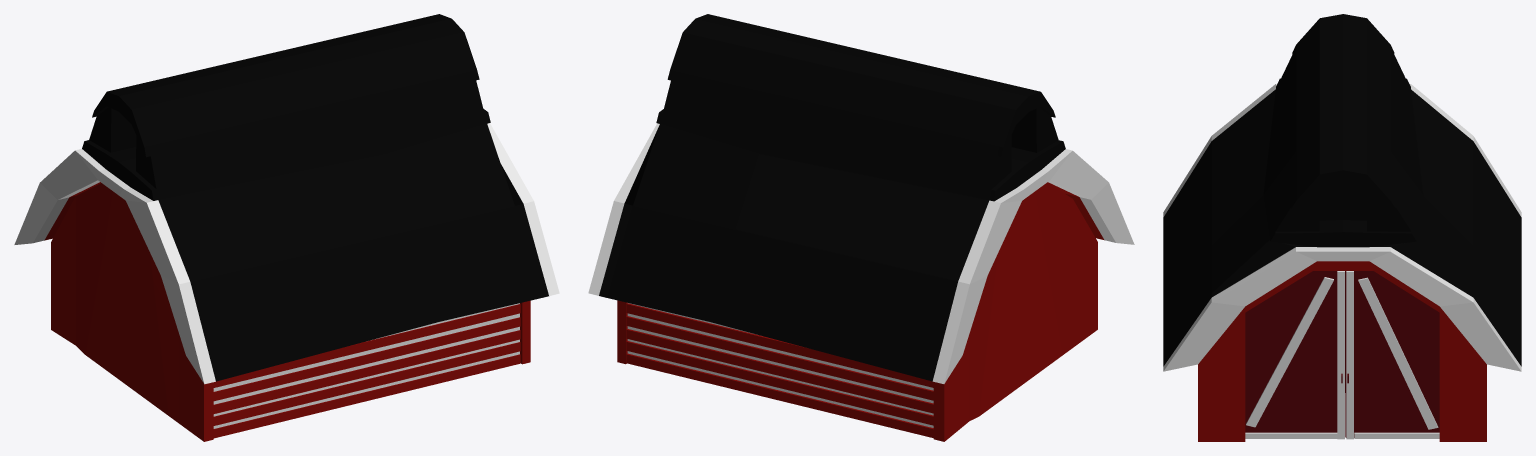
The model's file is barn.fbx.
3 views of the same model, side by side, from view 1: azimuth 30°, elevation 25°; view 2: azimuth 150°, elevation 25°; view 3: azimuth 270°, elevation 25° (orthographic). The views are drawn at different scales.
Visible parts, largest first — view 1: Barn; view 2: Barn; view 3: Barn.
Boxes of the visible parts, left/top/right/bottom form: Barn: left=14, top=14, right=559, bottom=441; Barn: left=588, top=14, right=1134, bottom=441; Barn: left=1163, top=14, right=1521, bottom=441.
Bounding box in the file's own units: 30.94 × 24.43 × 28.68.
